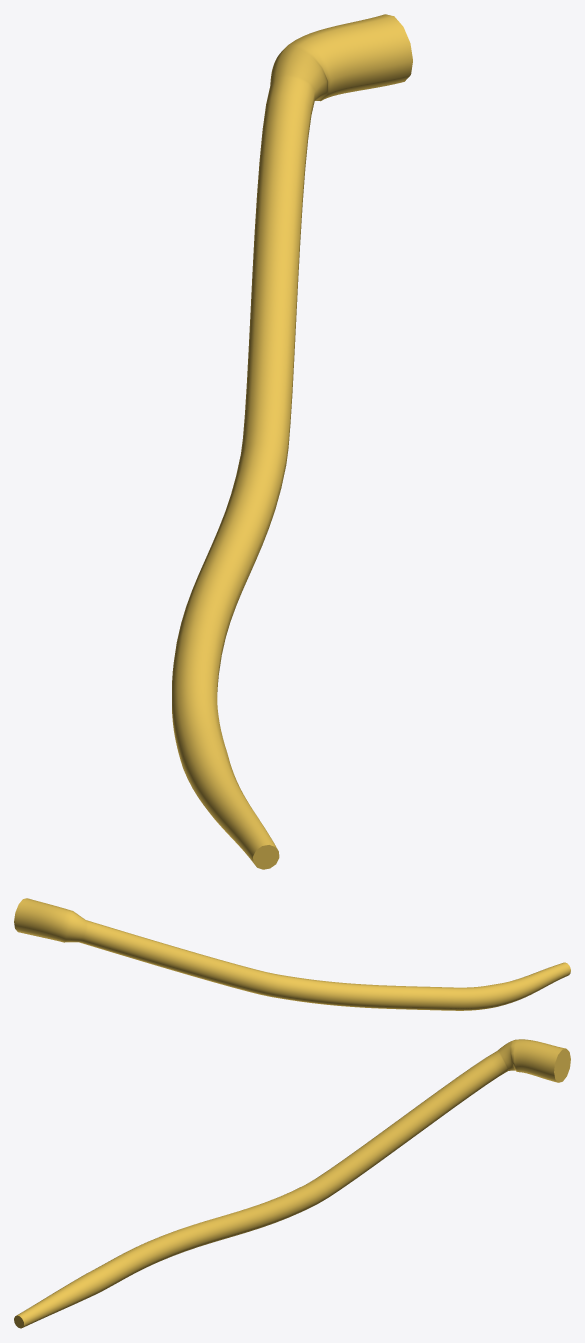
Rendered from Optic_nerve_II_right.glb.
3 views of the same model, one above another, from view 1: azimuth 30°, elevation 25°; view 2: azimuth 150°, elevation 25°; view 3: azimuth 330°, elevation 25° (orthographic). The views are drawn at different scales.
Parts seen in each view (by area): view 1: Optic_nerve_(II).r_BezierCurve.494; view 2: Optic_nerve_(II).r_BezierCurve.494; view 3: Optic_nerve_(II).r_BezierCurve.494.
Part boxes in pixels (box(x1,y1,x2,y2)): Optic_nerve_(II).r_BezierCurve.494: box(172, 14, 412, 869); Optic_nerve_(II).r_BezierCurve.494: box(14, 898, 570, 1010); Optic_nerve_(II).r_BezierCurve.494: box(14, 1039, 570, 1328).
Bounding box in the file's own units: 0.0305 × 0.0167 × 0.0425.
